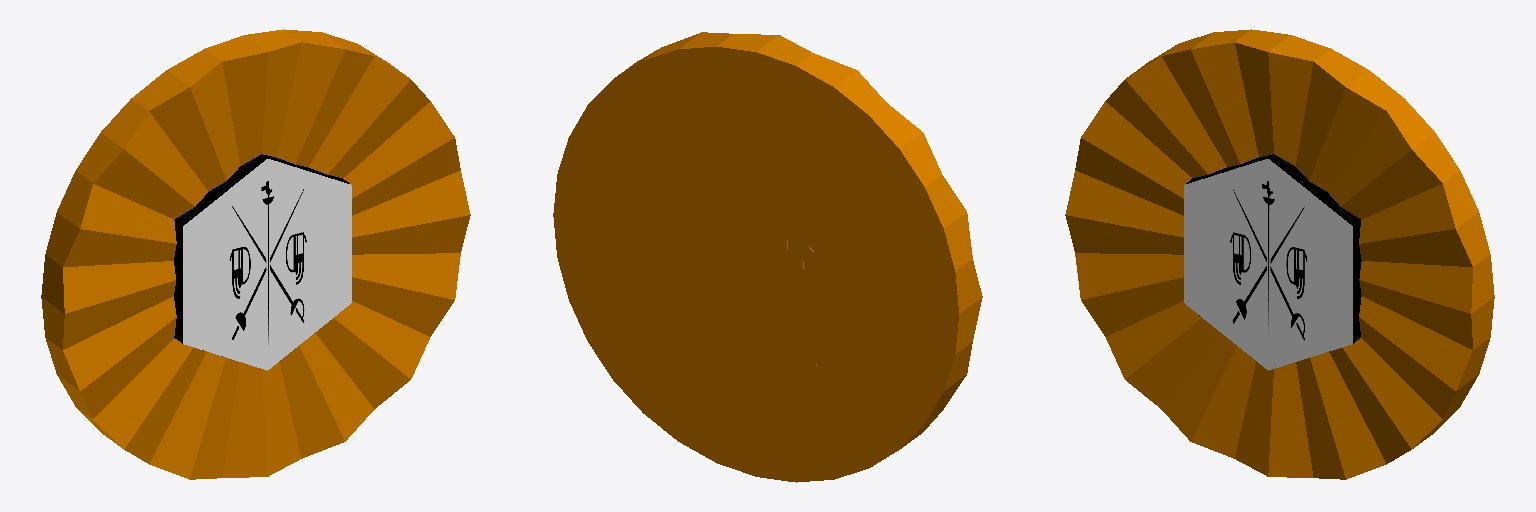
3 renders of one model, left to right at view 1: azimuth 30°, elevation 25°; view 2: azimuth 150°, elevation 25°; view 3: azimuth 330°, elevation 25°, orthographic.
Parts seen in each view (by area): view 1: Cylinder; view 2: Cylinder; view 3: Cylinder.
Part boxes in pixels (left/top/right/bottom): Cylinder: left=41, top=29, right=470, bottom=479; Cylinder: left=553, top=32, right=982, bottom=482; Cylinder: left=1065, top=29, right=1494, bottom=479.
Bounding box in the file's own units: 10 × 10 × 1.
3 materials, 1 textured.